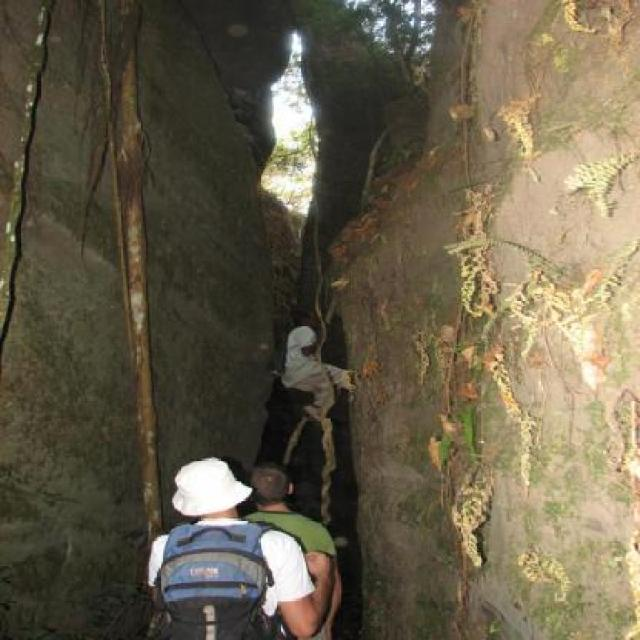backpack: (148, 520, 278, 640)
